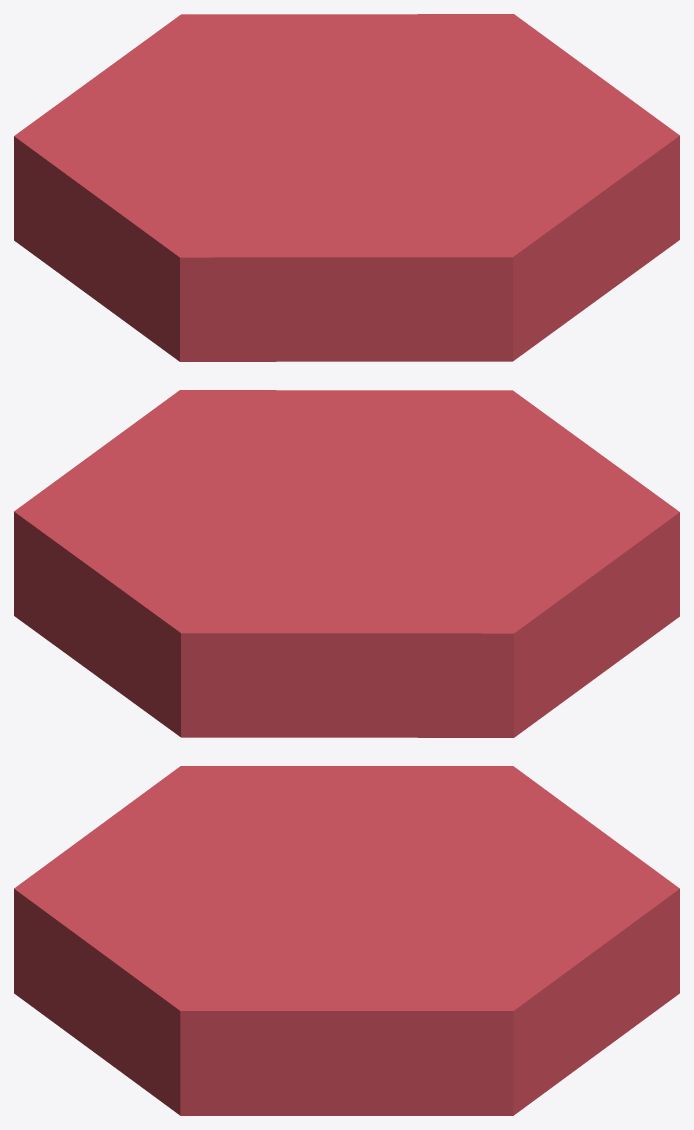
File: Hex29.fbx
The picture shows the model from 3 angles, top to bottom: view 1: azimuth 30°, elevation 25°; view 2: azimuth 150°, elevation 25°; view 3: azimuth 270°, elevation 25°; orthographic projection.
Visible parts, largest first — view 1: Hex29; view 2: Hex29; view 3: Hex29.
Boxes of the visible parts, left/top/right/bottom form: Hex29: left=14, top=14, right=679, bottom=361; Hex29: left=14, top=390, right=679, bottom=737; Hex29: left=14, top=766, right=679, bottom=1115.
Bounding box in the file's own units: 1 × 0.2003 × 1.15.
